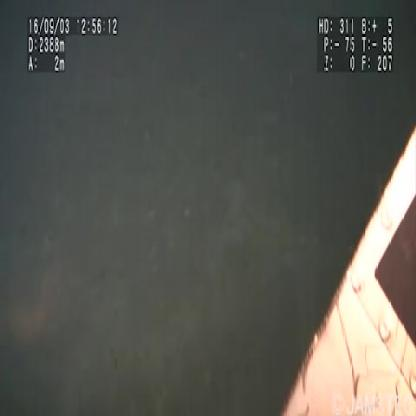Rov: (278, 126, 415, 416)
